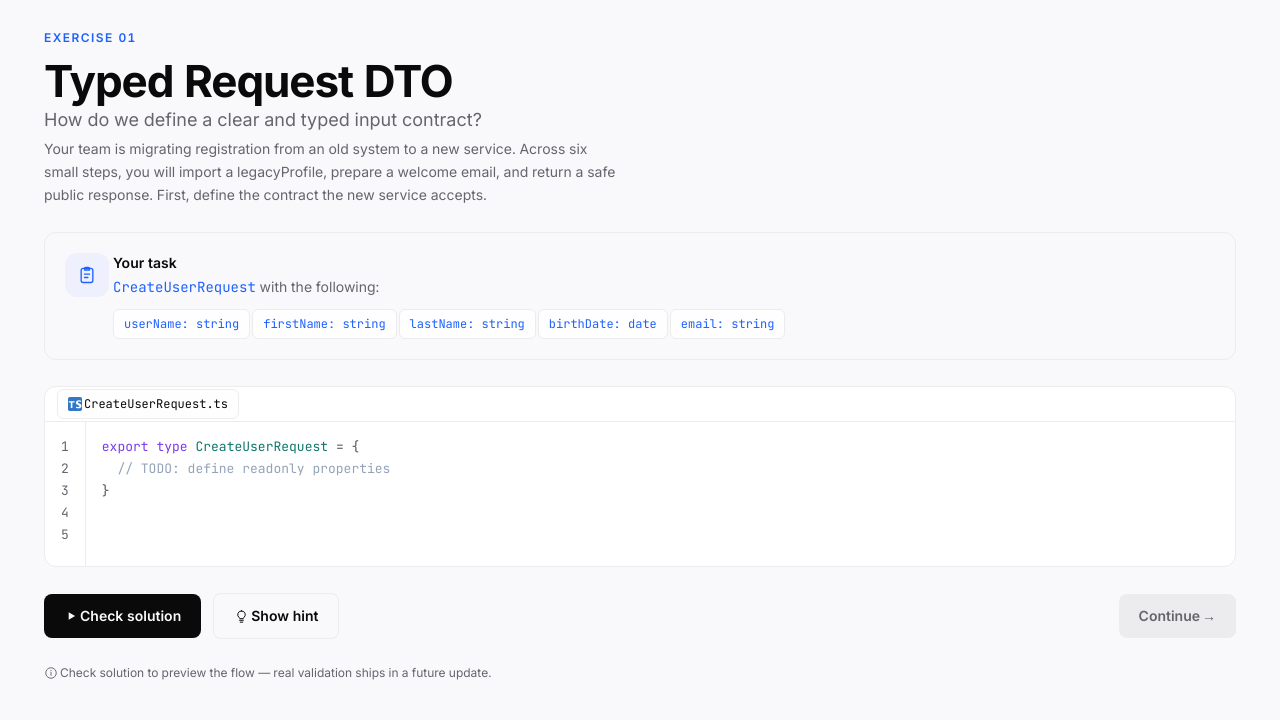
Test: ExerciseCard › re-locks Continue after the draft is edited again
Step 1. Click the button "Check solution" → click(123, 616), box [44,594,201,638]
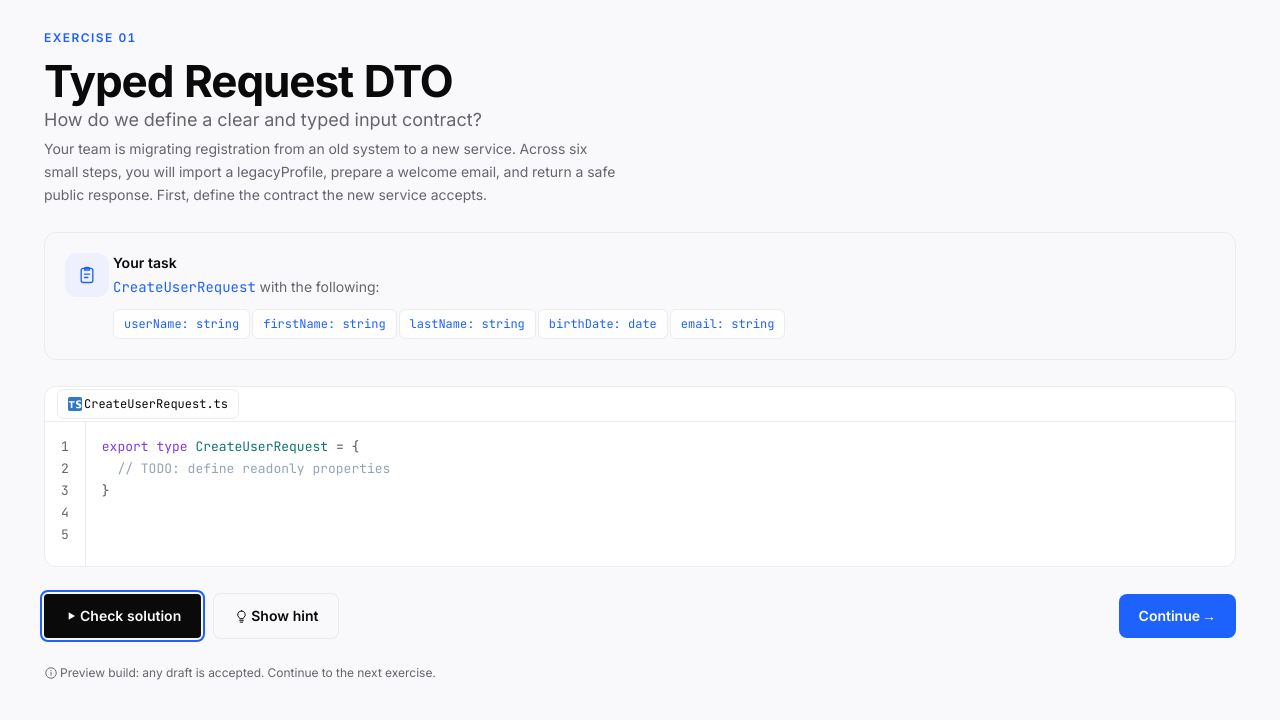
Result: the button "Continue →" is enabled at [1119,594,1236,638]
Step 2. Type "x" into the text box named "your solution" → (660, 491), box [86,422,1235,560]
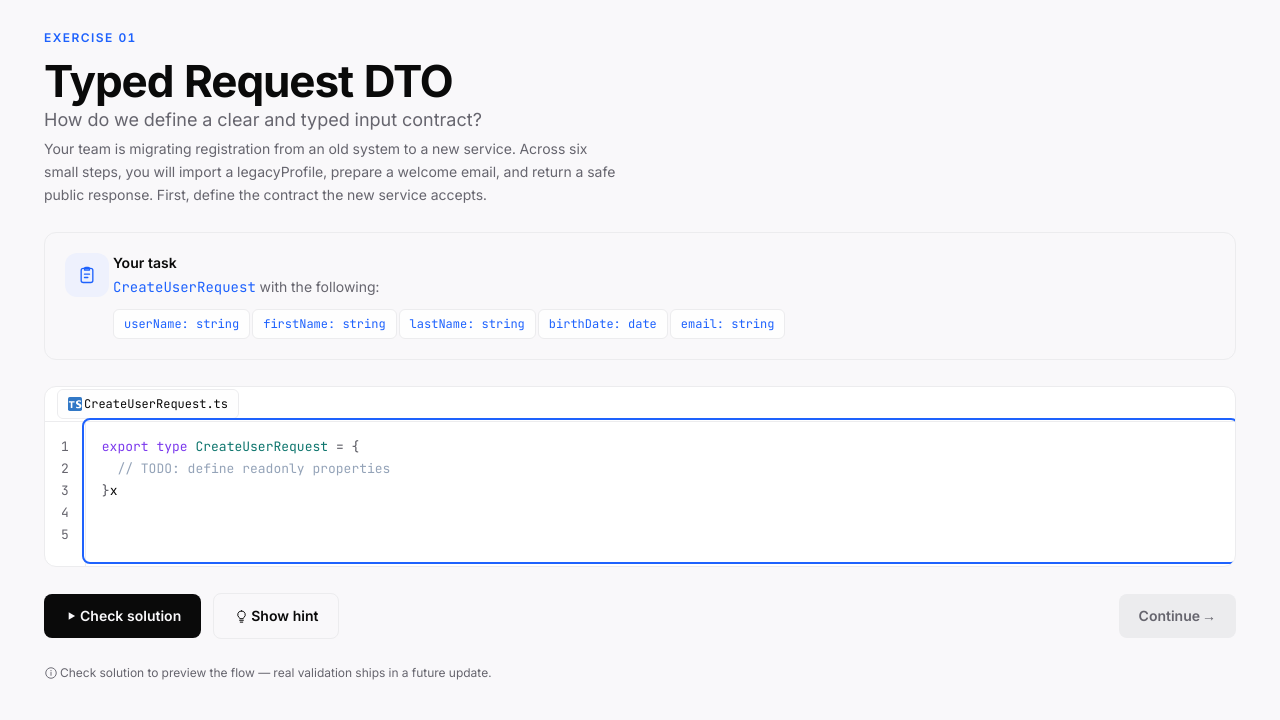
Result: the button "Continue →" is disabled at [1119,594,1236,638]
